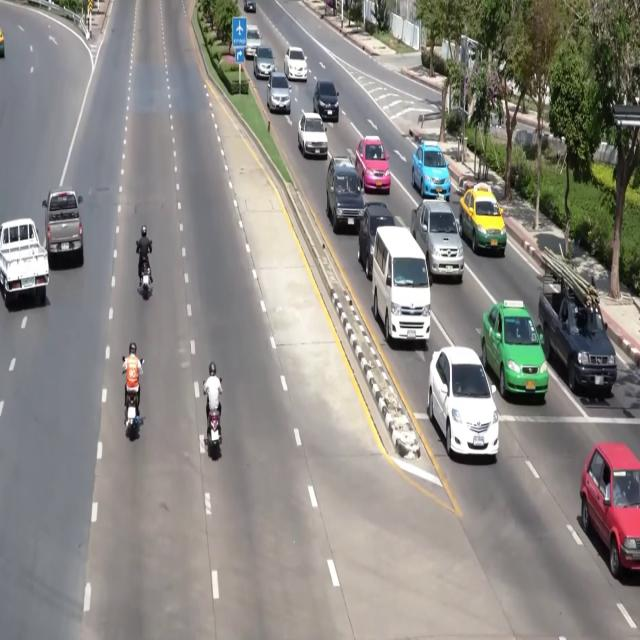car: (580, 442, 639, 578), (428, 346, 498, 457), (481, 301, 548, 399), (411, 200, 464, 282), (460, 183, 506, 256), (42, 187, 83, 265), (358, 202, 396, 279), (326, 157, 364, 232), (412, 141, 450, 200), (355, 136, 390, 193), (298, 112, 328, 159), (313, 80, 339, 122), (267, 72, 290, 114), (284, 48, 307, 81), (253, 45, 275, 79), (245, 25, 261, 59), (244, 0, 256, 13), (0, 28, 4, 57)
scooty: (205, 401, 221, 458), (125, 391, 140, 439), (141, 262, 152, 300)
truck: (538, 248, 616, 396), (0, 219, 49, 306)
